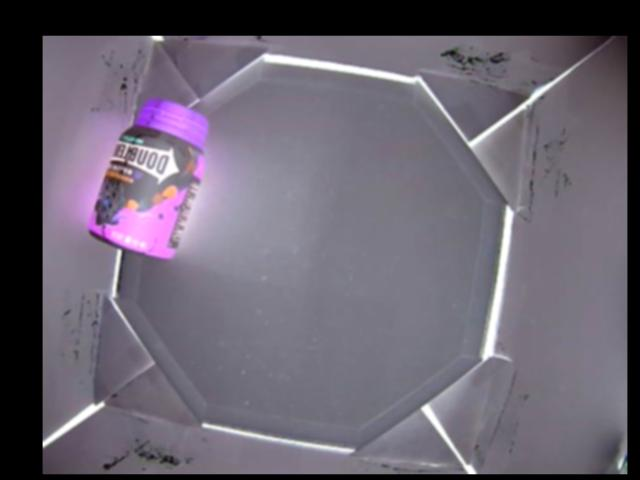Bottle: (84, 94, 210, 260)
